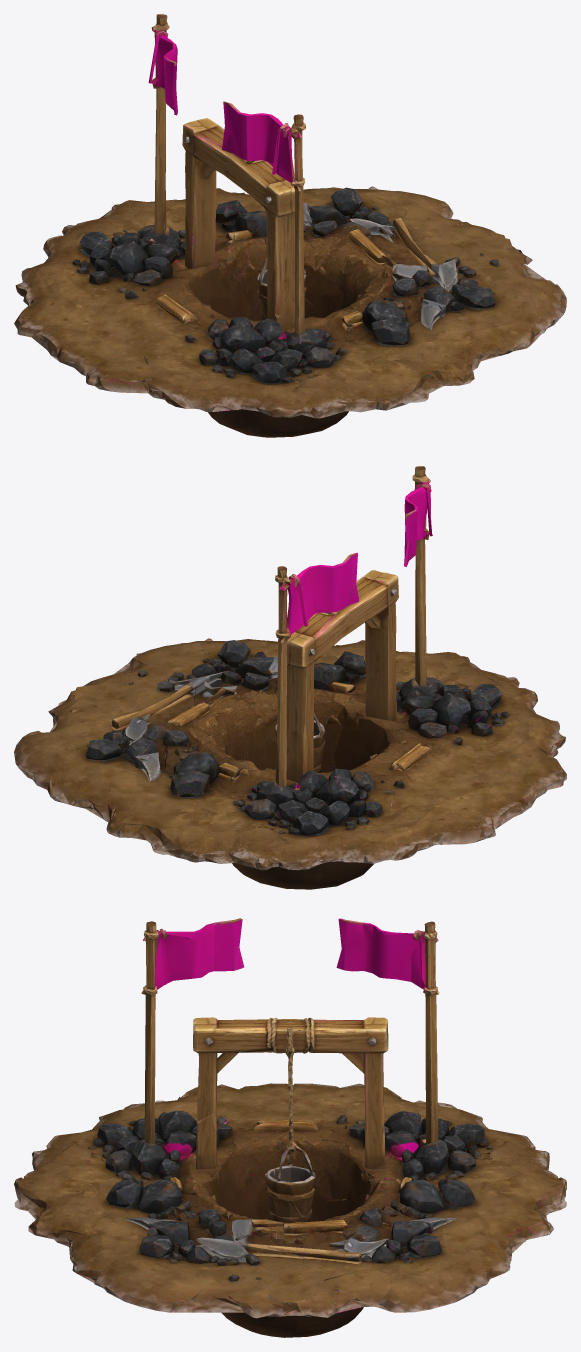
Rendered from iron_mine.glb.
3 views of the same model, one above another, from view 1: azimuth 30°, elevation 25°; view 2: azimuth 150°, elevation 25°; view 3: azimuth 270°, elevation 25° (orthographic).
Visible parts, largest first — view 1: Mesh_0; view 2: Mesh_0; view 3: Mesh_0.
Part boxes in pixels (x1=…): Mesh_0: x1=14, y1=14, x2=566, y2=437; Mesh_0: x1=14, y1=466, x2=566, y2=889; Mesh_0: x1=14, y1=918, x2=566, y2=1337.
Bounding box in the file's own units: 1.84 × 1.38 × 1.87.
Materials: 1 (1 with a texture image).
